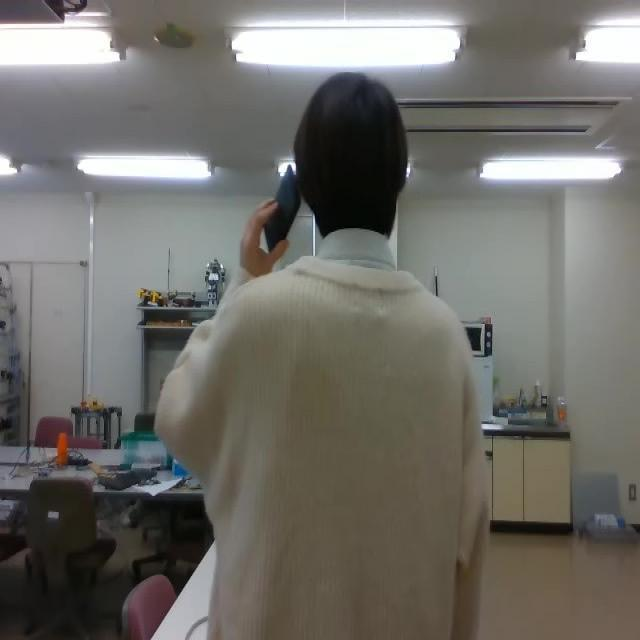Phone: (262, 162, 302, 256)
